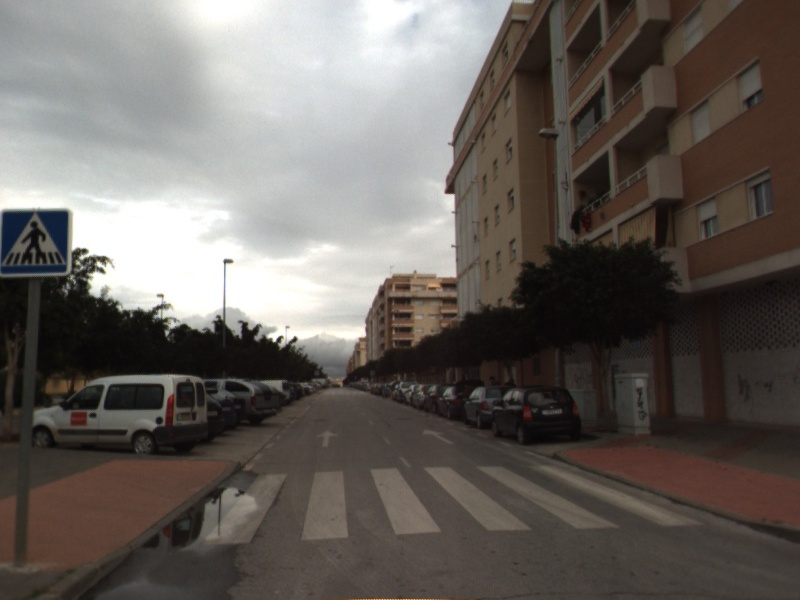STRAIGHT: (420, 427, 456, 446), (314, 428, 341, 449)
